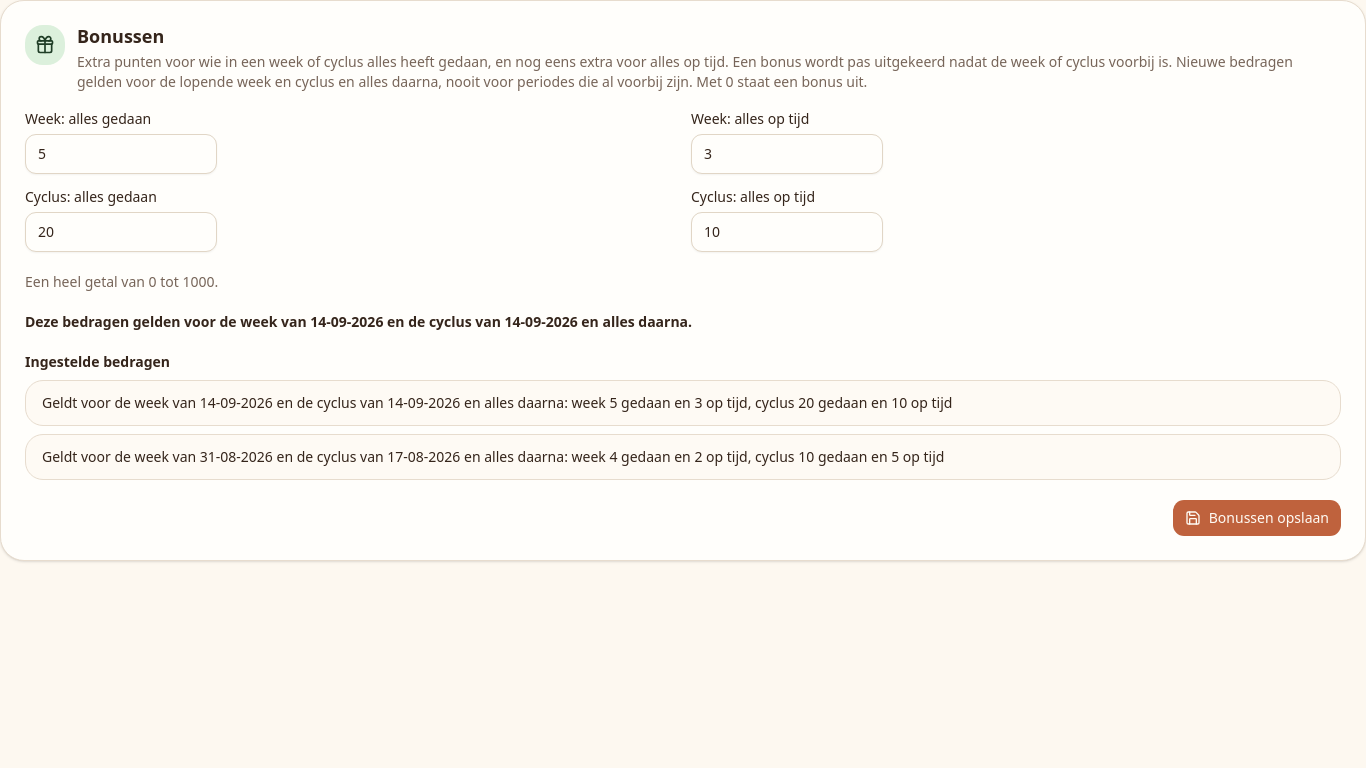
Test: BonusSection › saves the four amounts as periodBonuses and confirms it
Replace the text in the number field labelled "Week: alles gedaan" with "7". click: [121, 154]
box: [25,134,217,174]
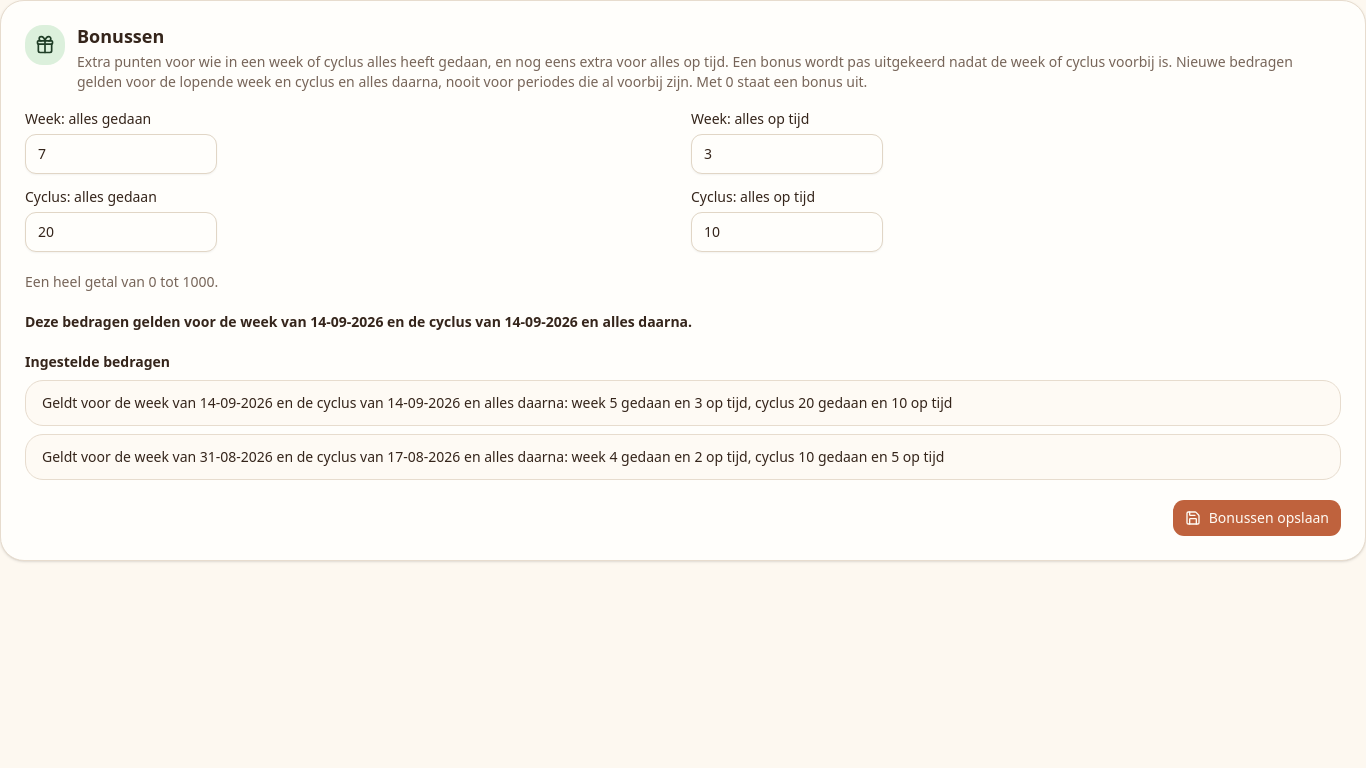
Replace the text in the number field labelled "Cyclus: alles op tijd" with "0". click: [787, 232]
box: [691,212,883,252]
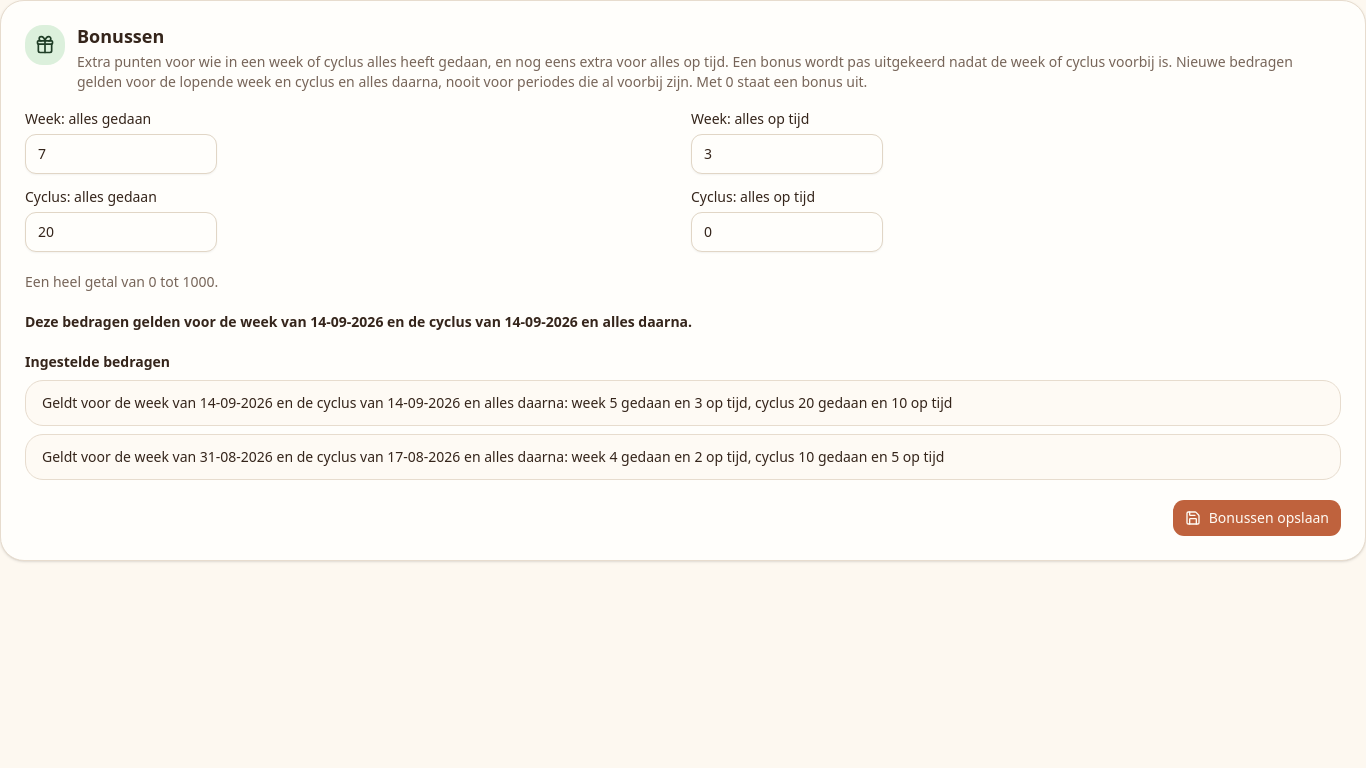
Click the button "Bonussen opslaan". click: [1257, 518]
box: [1173,500,1341,536]
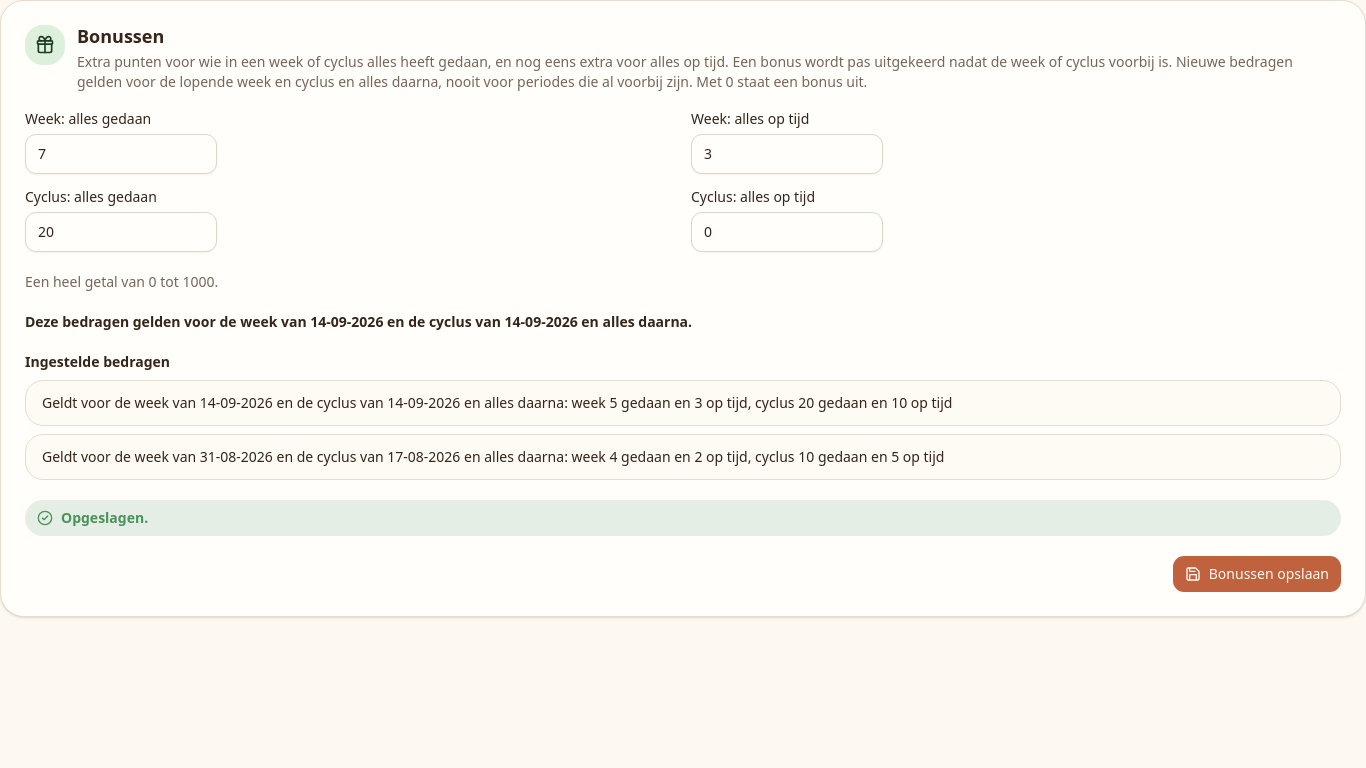
Expected: the message reads "Opgeslagen.", [61,508,148,526]
